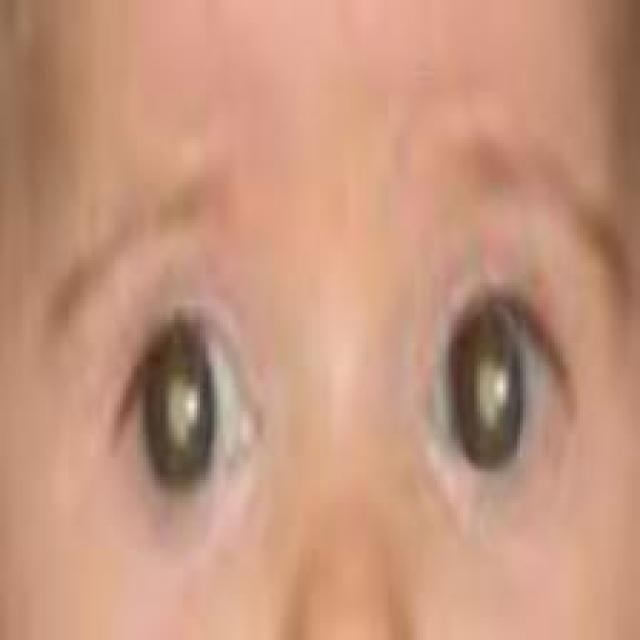reflexo-alterado: (406, 267, 590, 507), (105, 293, 273, 489)
